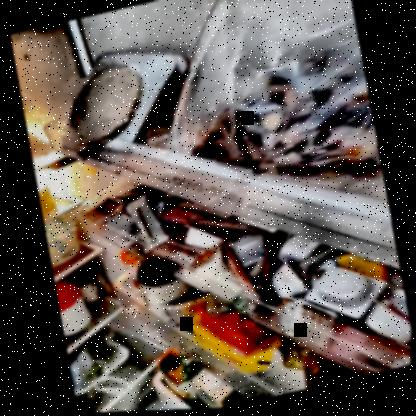butter: (188, 313, 275, 384)
dates: (188, 40, 386, 211)
milk: (189, 367, 245, 409)
salami: (55, 63, 147, 149)
